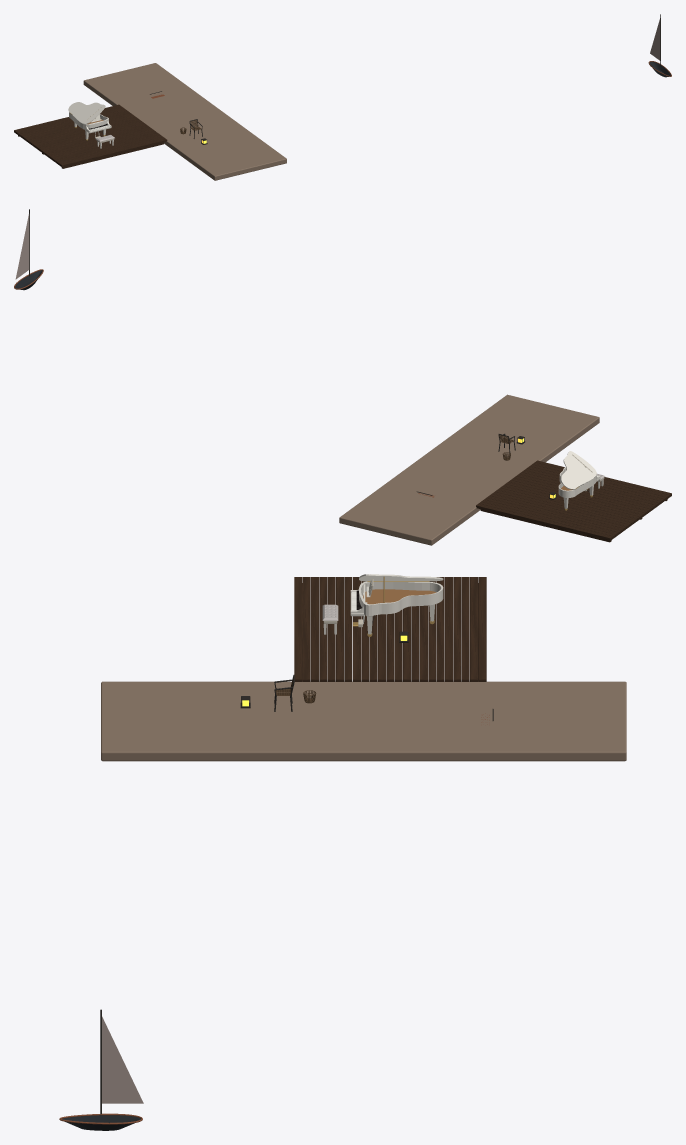
Rendered from piano_seaside_material.glb.
3 views of the same model, one above another, from view 1: azimuth 30°, elevation 25°; view 2: azimuth 150°, elevation 25°; view 3: azimuth 270°, elevation 25° (orthographic). The views are drawn at different scales.
Parts seen in each view (by area): view 1: S01 local sand patch, P02 raised lid, D01 deck plank 00, D01 deck plank 02, D01 deck plank 03, D01 deck plank 01, D01 deck plank 04, D01 deck plank 10, D01 deck plank 11, D01 deck plank 05, V02 triangular sail, D01 deck plank 09; view 2: S01 local sand patch, P02 raised lid, D01 deck plank 22; view 3: S01 local sand patch, V02 triangular sail, P01 grand piano curved rim and bottom, D01 deck plank 00, D01 deck plank 01, D01 deck plank 19, D01 deck plank 20, D01 deck plank 22, D01 deck plank 06, V02_sailboat closed hull shell, D01 deck plank 02, D01 deck plank 18 (+2 smaller).
Boxes of the visible parts, bbox=[...] form: S01 local sand patch: bbox=[83, 63, 286, 180]; P02 raised lid: bbox=[68, 102, 105, 124]; D01 deck plank 00: bbox=[60, 138, 167, 167]; D01 deck plank 02: bbox=[56, 135, 162, 163]; D01 deck plank 03: bbox=[53, 133, 160, 162]; D01 deck plank 01: bbox=[58, 137, 164, 165]; D01 deck plank 04: bbox=[51, 132, 158, 160]; D01 deck plank 10: bbox=[39, 123, 145, 151]; D01 deck plank 11: bbox=[37, 121, 143, 150]; D01 deck plank 05: bbox=[49, 130, 156, 159]; V02 triangular sail: bbox=[650, 18, 660, 60]; D01 deck plank 09: bbox=[41, 124, 147, 153]; S01 local sand patch: bbox=[339, 394, 599, 545]; P02 raised lid: bbox=[560, 451, 596, 489]; D01 deck plank 22: bbox=[476, 503, 612, 540]; S01 local sand patch: bbox=[101, 681, 626, 761]; V02 triangular sail: bbox=[102, 1016, 143, 1103]; P01 grand piano curved rim and bottom: bbox=[359, 581, 443, 615]; D01 deck plank 00: bbox=[294, 577, 302, 681]; D01 deck plank 01: bbox=[302, 577, 310, 681]; D01 deck plank 19: bbox=[453, 577, 461, 681]; D01 deck plank 20: bbox=[461, 577, 469, 681]; D01 deck plank 22: bbox=[478, 577, 486, 681]; D01 deck plank 06: bbox=[344, 577, 352, 681]; V02_sailboat closed hull shell: bbox=[62, 1115, 140, 1130]; D01 deck plank 02: bbox=[311, 577, 318, 681]; D01 deck plank 18: bbox=[445, 577, 452, 681].
Size of what is drawn, in the model's own units: 39.06 by 3.99 by 17.27.
Materials: 16 (1 with a texture image).
